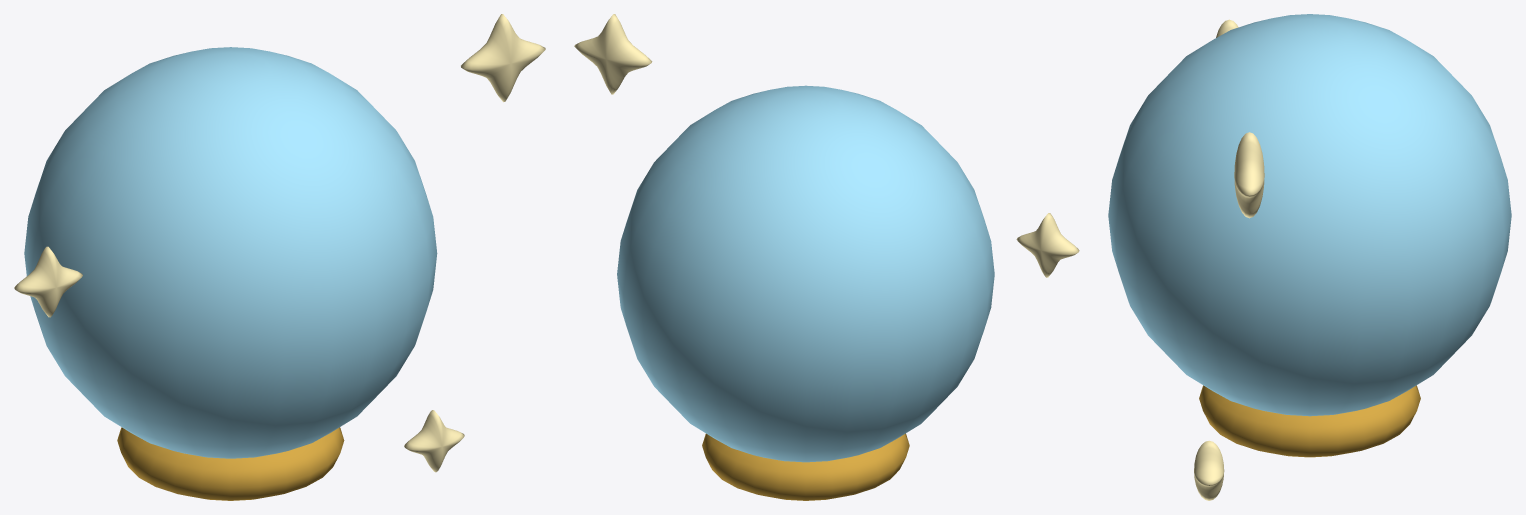
File: wizard-orb.glb
3 renders of one model, left to right at view 1: azimuth 30°, elevation 25°; view 2: azimuth 150°, elevation 25°; view 3: azimuth 270°, elevation 25°, orthographic. The views are drawn at different scales.
Parts seen in each view (by area): view 1: wizard_ball, wizard_cradle, wizard_spark_0, wizard_spark_1, wizard_spark_2; view 2: wizard_ball, wizard_cradle, wizard_spark_0, wizard_spark_1; view 3: wizard_ball, wizard_cradle, wizard_spark_0, wizard_spark_2.
Part boxes in pixels (bbox=[...]): wizard_ball: bbox=[24, 47, 437, 458]; wizard_cradle: bbox=[117, 427, 344, 500]; wizard_spark_0: bbox=[461, 14, 545, 102]; wizard_spark_1: bbox=[14, 246, 82, 317]; wizard_spark_2: bbox=[404, 410, 464, 472]; wizard_ball: bbox=[617, 85, 994, 462]; wizard_cradle: bbox=[702, 433, 909, 500]; wizard_spark_0: bbox=[574, 14, 652, 94]; wizard_spark_1: bbox=[1016, 213, 1079, 277]; wizard_ball: bbox=[1108, 14, 1511, 416]; wizard_cradle: bbox=[1199, 385, 1420, 457]; wizard_spark_0: bbox=[1234, 132, 1264, 218]; wizard_spark_2: bbox=[1194, 440, 1224, 500].
Size of the model in its own units: 0.6047 by 0.4521 by 0.4.
